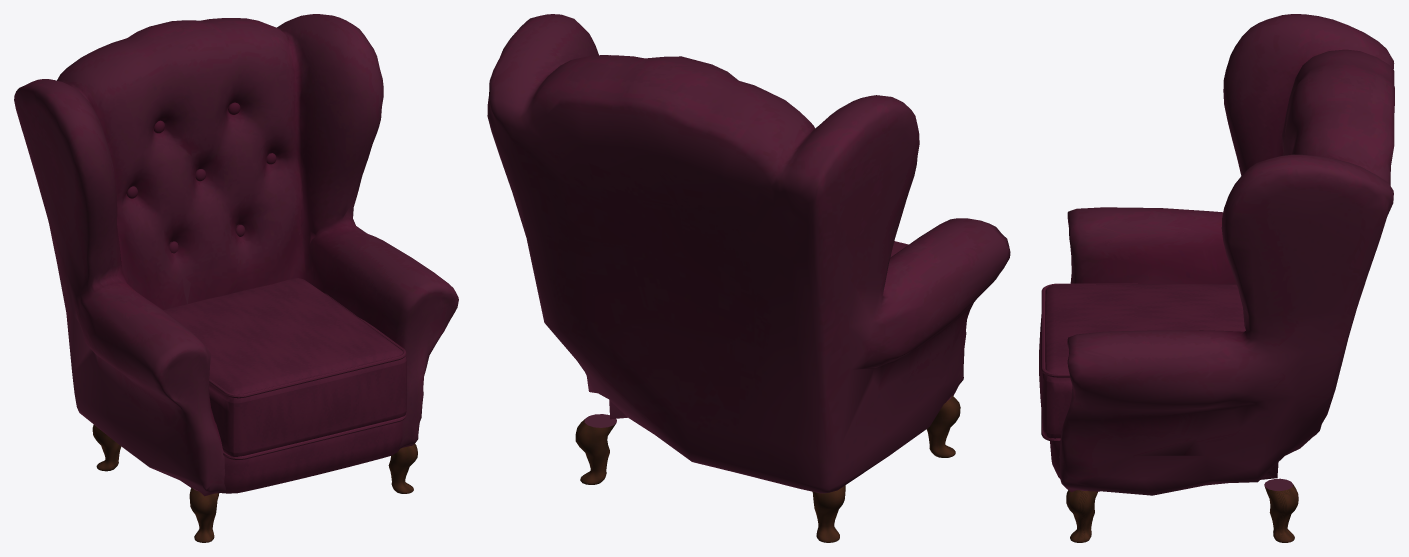
Rendered from wingback_armchair_v4.glb.
The picture shows the model from 3 angles, left to right: view 1: azimuth 30°, elevation 25°; view 2: azimuth 150°, elevation 25°; view 3: azimuth 270°, elevation 25°; orthographic projection. The views are drawn at different scales.
Parts seen in each view (by area): view 1: wingback_armchair_v4; view 2: wingback_armchair_v4; view 3: wingback_armchair_v4.
Part boxes in pixels (<box>): wingback_armchair_v4: <box>14,14,458,542</box>; wingback_armchair_v4: <box>487,14,1010,542</box>; wingback_armchair_v4: <box>1039,14,1394,542</box>.
Size of the model in its own units: 1.17 by 1.41 by 1.1.
3 materials, 3 textured.
